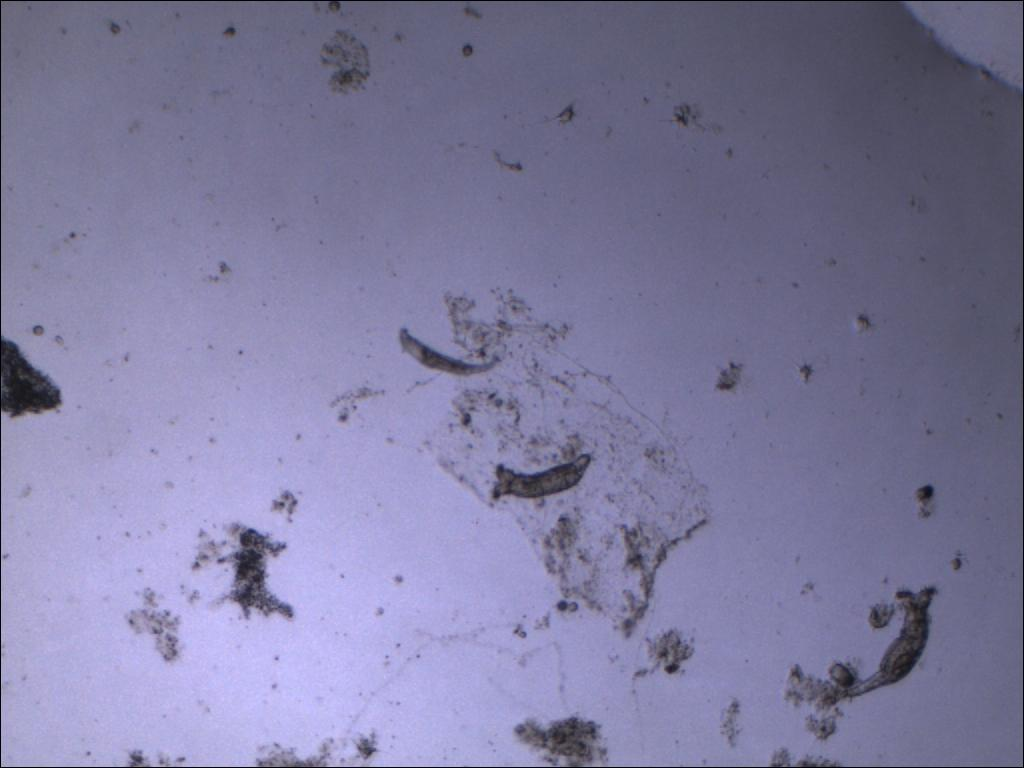amoeba: (205, 519, 301, 628)
